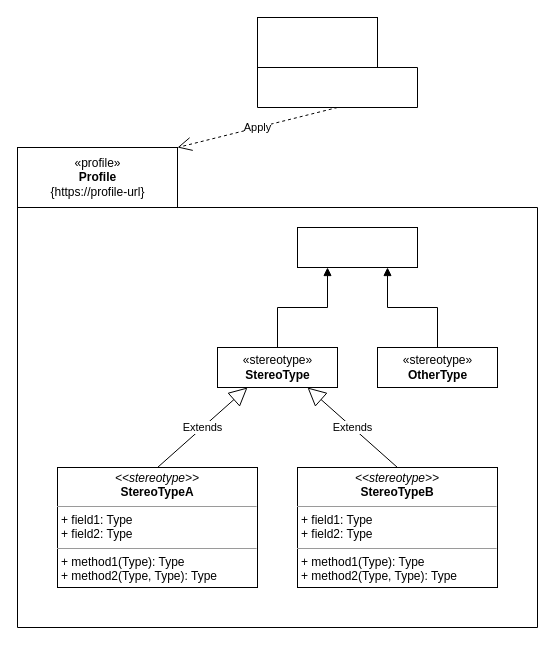
The diagram is 555 pixels wide and 645 high, and some of its shapes have lost their labels. Here are the shapes that lost their labels. From the top down, the centre of each, then its label:
point (317, 42): «profile» Other Profile
point (357, 247): «metaclass» MetaClass
